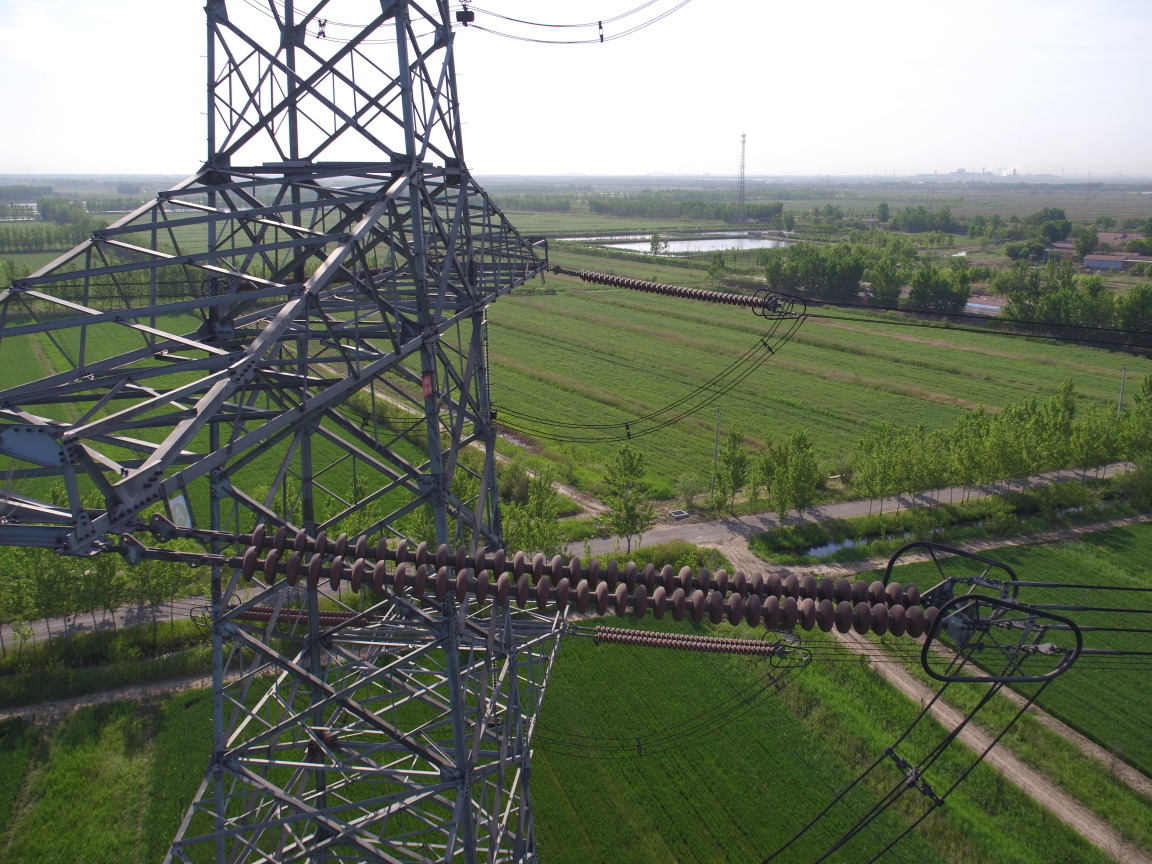insulator: (182, 518, 955, 641), (565, 266, 774, 311)
